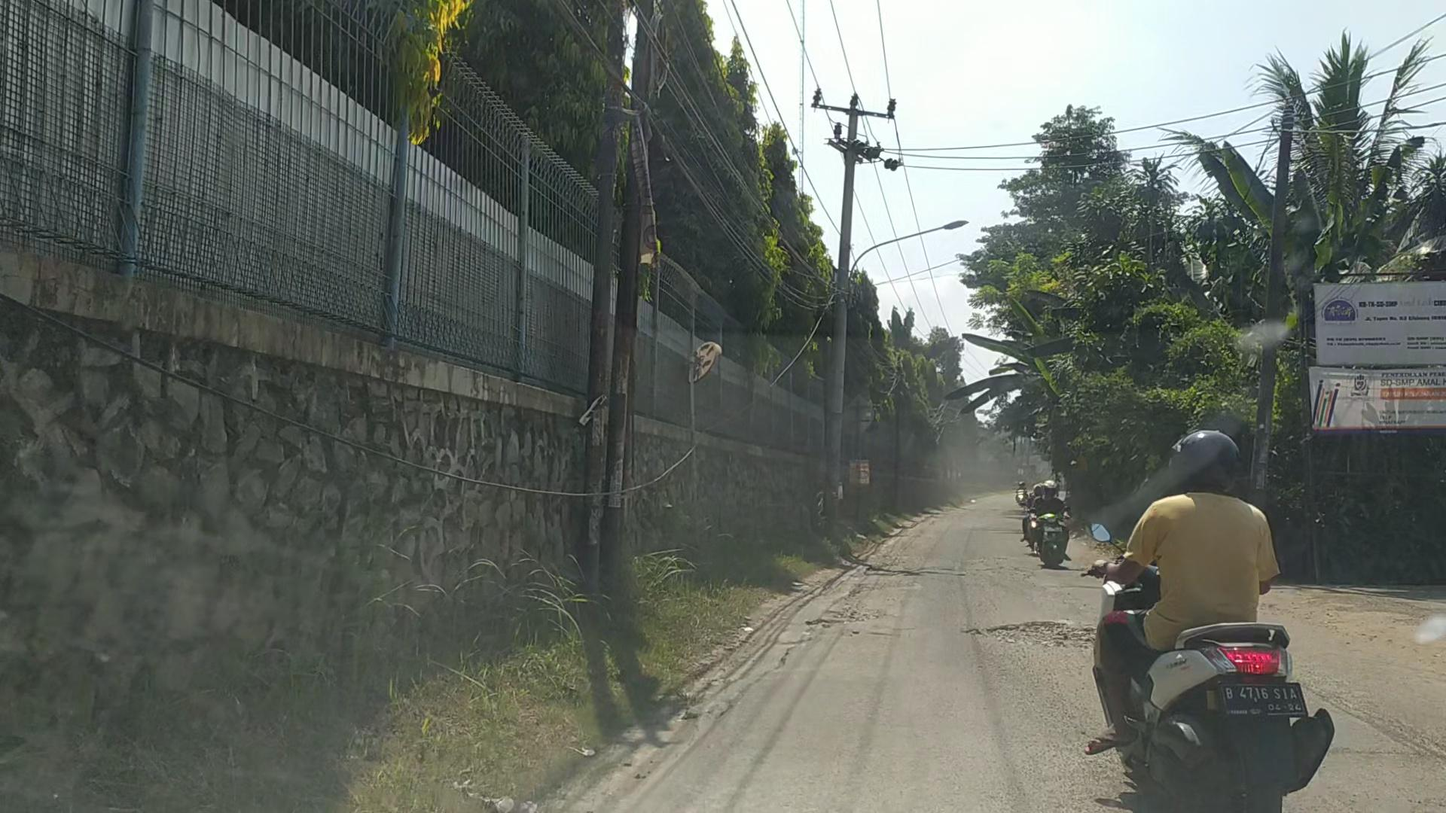pothole: (978, 619, 1091, 651), (809, 603, 876, 631)
